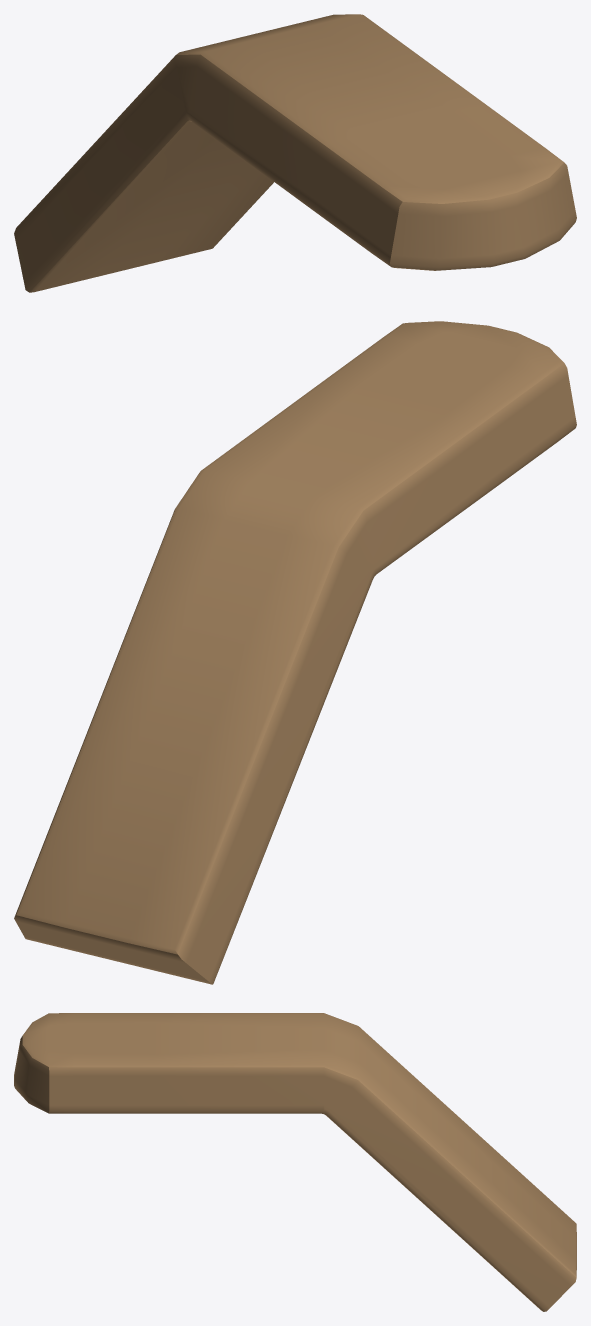
File: RotatorLockerLower.fbx
3 views of the same model, one above another, from view 1: azimuth 30°, elevation 25°; view 2: azimuth 150°, elevation 25°; view 3: azimuth 270°, elevation 25° (orthographic). The views are drawn at different scales.
Parts seen in each view (by area): view 1: RotatorLockerLower; view 2: RotatorLockerLower; view 3: RotatorLockerLower.
Part boxes in pixels (box(x1,y1,x2,y2)): RotatorLockerLower: box(14, 14, 576, 292); RotatorLockerLower: box(14, 321, 576, 984); RotatorLockerLower: box(14, 1013, 576, 1311).
Bounding box in the file's own units: 11.87 × 21.54 × 45.31.
